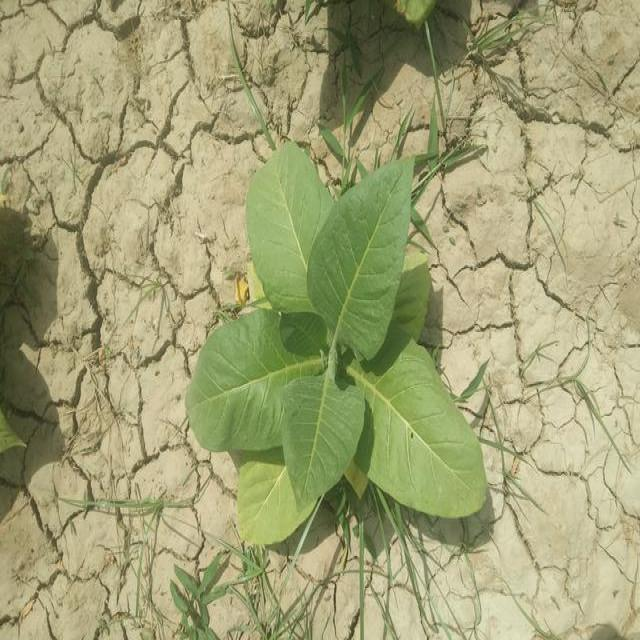crop: (194, 143, 488, 530), (0, 407, 29, 469), (389, 0, 428, 25)
